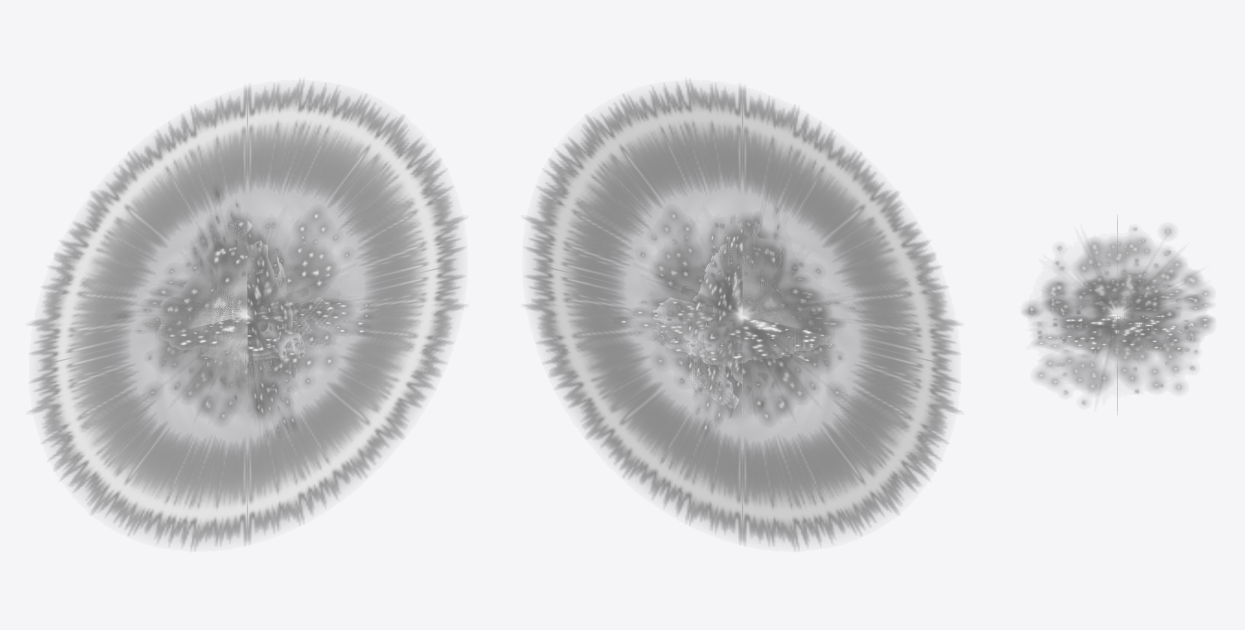
Rendered from si_eos_r010.glb.
The picture shows the model from 3 angles, left to right: view 1: azimuth 30°, elevation 25°; view 2: azimuth 150°, elevation 25°; view 3: azimuth 270°, elevation 25°; orthographic projection. The views are drawn at different scales.
Visible parts, largest first — view 1: layer_03_si_est_0402, layer_02_si_est_0400, layer_01_si_est_0200, layer_00_si_est_0000; view 2: layer_03_si_est_0402, layer_02_si_est_0400, layer_01_si_est_0200, layer_00_si_est_0000; view 3: layer_01_si_est_0200, layer_00_si_est_0000.
Boxes of the visible parts, x1=… form: layer_03_si_est_0402: x1=42, y1=94, x2=454, y2=537; layer_02_si_est_0400: x1=30, y1=83, x2=464, y2=546; layer_01_si_est_0200: x1=120, y1=191, x2=369, y2=436; layer_00_si_est_0000: x1=169, y1=244, x2=332, y2=391; layer_03_si_est_0402: x1=535, y1=94, x2=947, y2=537; layer_02_si_est_0400: x1=525, y1=83, x2=959, y2=546; layer_01_si_est_0200: x1=619, y1=208, x2=854, y2=432; layer_00_si_est_0000: x1=667, y1=247, x2=818, y2=385; layer_01_si_est_0200: x1=1024, y1=227, x2=1212, y2=404; layer_00_si_est_0000: x1=1049, y1=256, x2=1183, y2=381.
Bounding box in the file's own units: 20 × 20 × 10.
4 materials, 4 textured.
